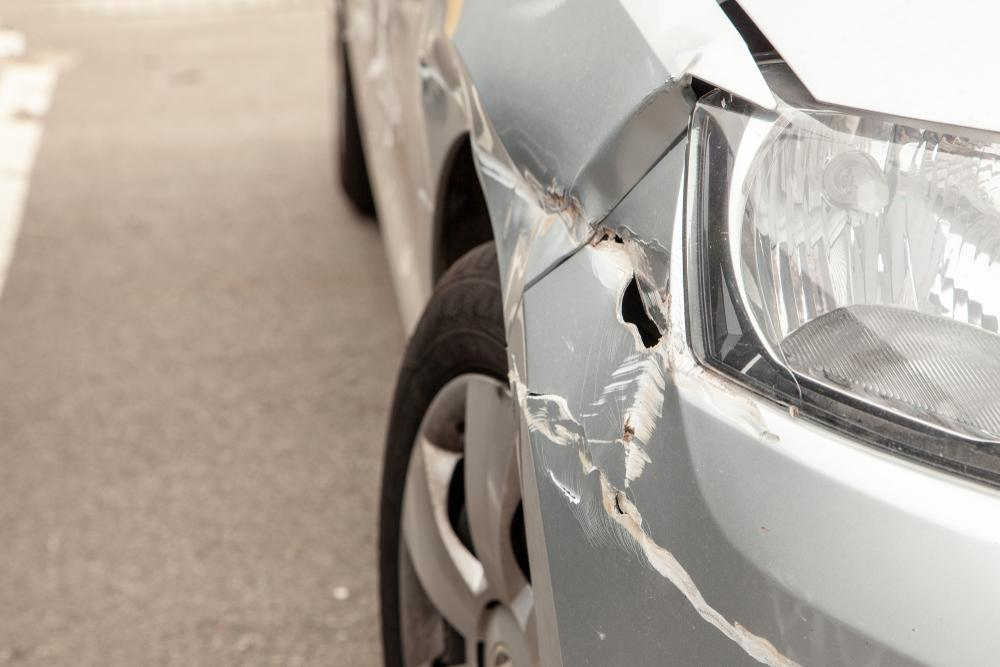crack: (618, 269, 664, 348), (596, 231, 629, 247)
dent: (482, 110, 608, 285)
scratch: (507, 348, 821, 667)
